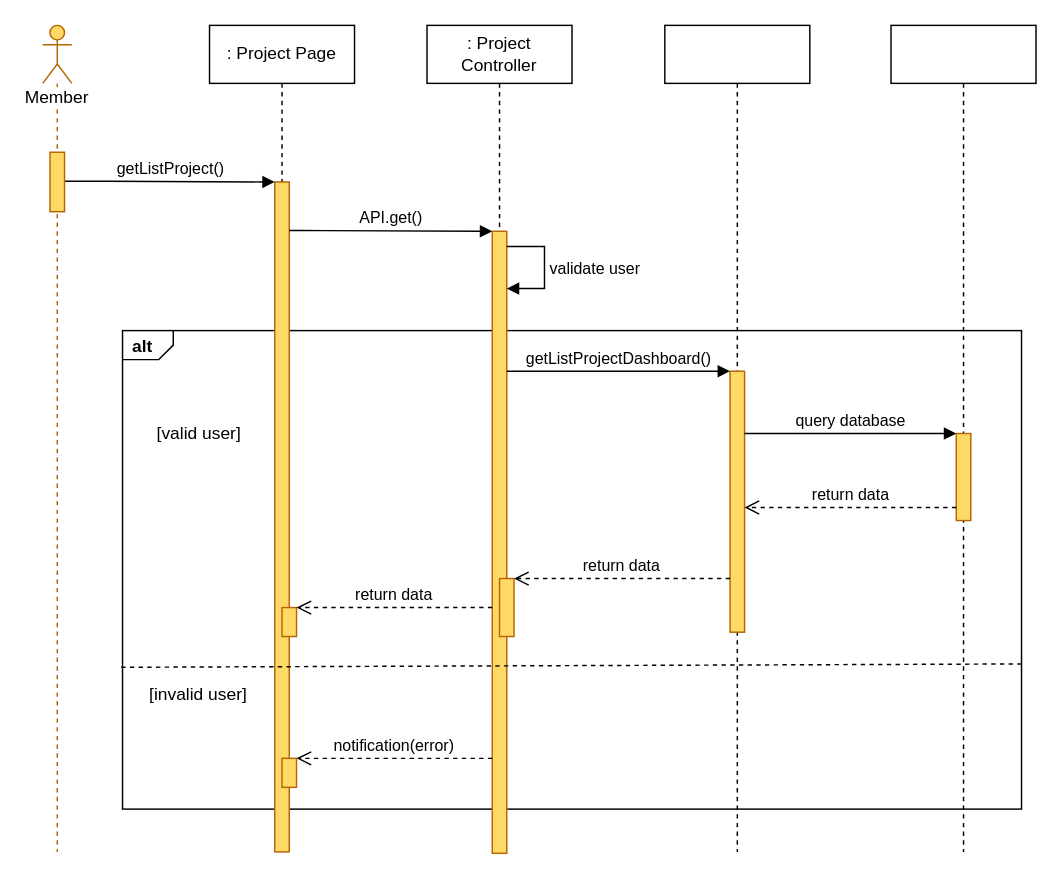
The diagram is 1061 pixels wide and 879 high, and some of its shapes have lost their labels. Each missing label, with the centre of its shape:
": Database" belongs at (963,438).
": Project Member Repository" belongs at (736,438).
